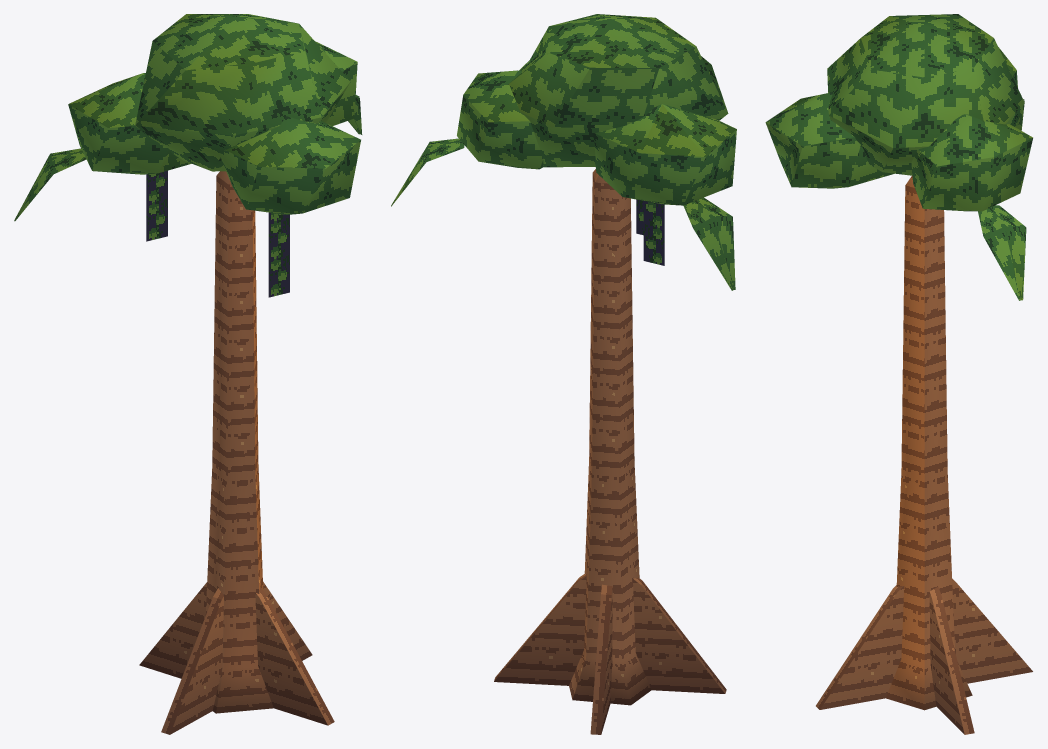
Rendered from wild.tree__tall.glb.
3 renders of one model, left to right at view 1: azimuth 30°, elevation 25°; view 2: azimuth 150°, elevation 25°; view 3: azimuth 270°, elevation 25°, orthographic. The views are drawn at different scales.
Parts seen in each view (by area): view 1: kit_canopy, kit_trunk, kit_buttresses, kit_shell_vines, kit_shell_rim_leaves; view 2: kit_canopy, kit_trunk, kit_buttresses, kit_shell_rim_leaves, kit_shell_vines; view 3: kit_canopy, kit_trunk, kit_buttresses, kit_shell_rim_leaves.
Part boxes in pixels (bbox=[...]): kit_canopy: bbox=[68, 14, 360, 214]; kit_trunk: bbox=[205, 171, 273, 713]; kit_buttresses: bbox=[139, 581, 334, 734]; kit_shell_vines: bbox=[146, 170, 289, 297]; kit_shell_rim_leaves: bbox=[14, 95, 362, 221]; kit_canopy: bbox=[457, 14, 736, 205]; kit_trunk: bbox=[569, 169, 651, 705]; kit_buttresses: bbox=[494, 573, 726, 734]; kit_shell_rim_leaves: bbox=[391, 138, 735, 290]; kit_shell_vines: bbox=[636, 199, 664, 265]; kit_canopy: bbox=[765, 14, 1032, 211]; kit_trunk: bbox=[886, 176, 972, 710]; kit_buttresses: bbox=[816, 578, 1032, 734]; kit_shell_rim_leaves: bbox=[978, 99, 1026, 300].
Size of the model in its own units: 5.85 by 10.84 by 3.97.
Materials: 3 (3 with a texture image).
